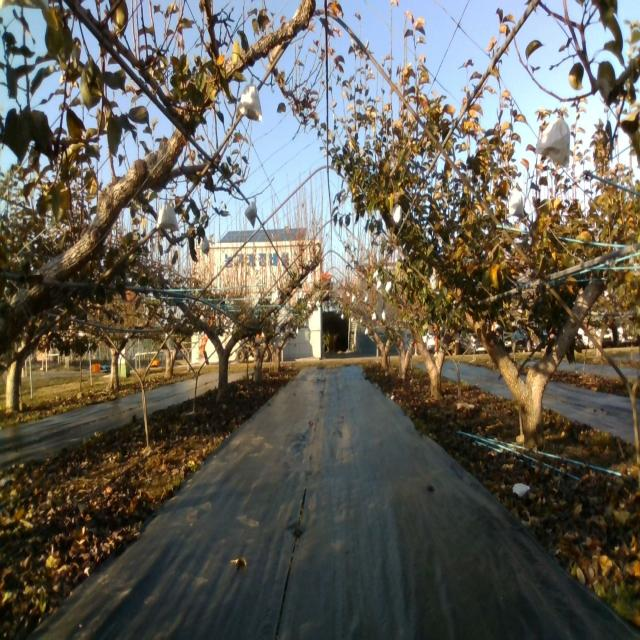pearbags: (536, 116, 572, 166), (238, 76, 262, 122), (157, 201, 180, 231), (508, 188, 524, 216), (245, 197, 257, 227), (392, 203, 402, 230)
